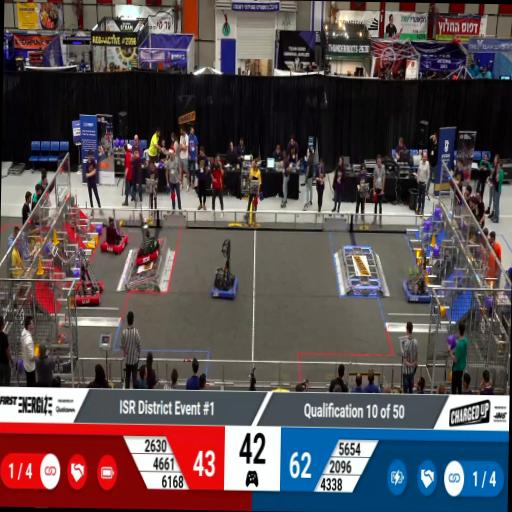robot: (46, 320, 74, 372), (208, 260, 242, 300), (72, 268, 106, 306), (134, 217, 160, 265), (100, 216, 130, 256), (400, 275, 432, 304)
